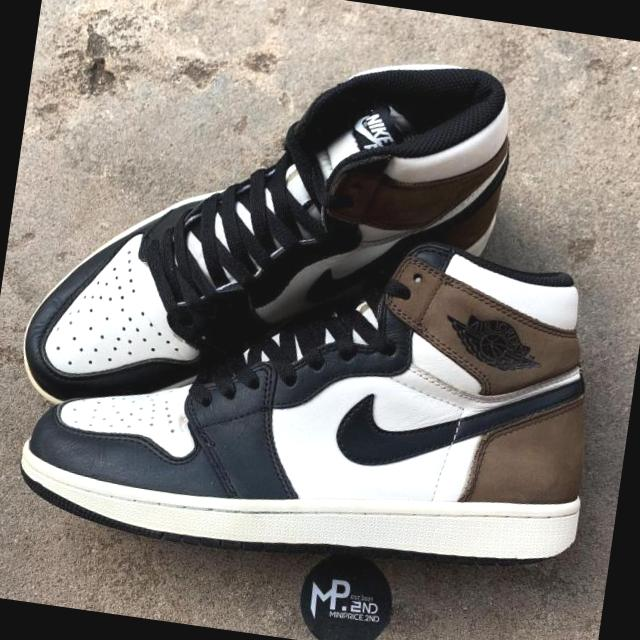nike_original_jordan: (11, 191, 623, 600), (5, 17, 528, 472)
